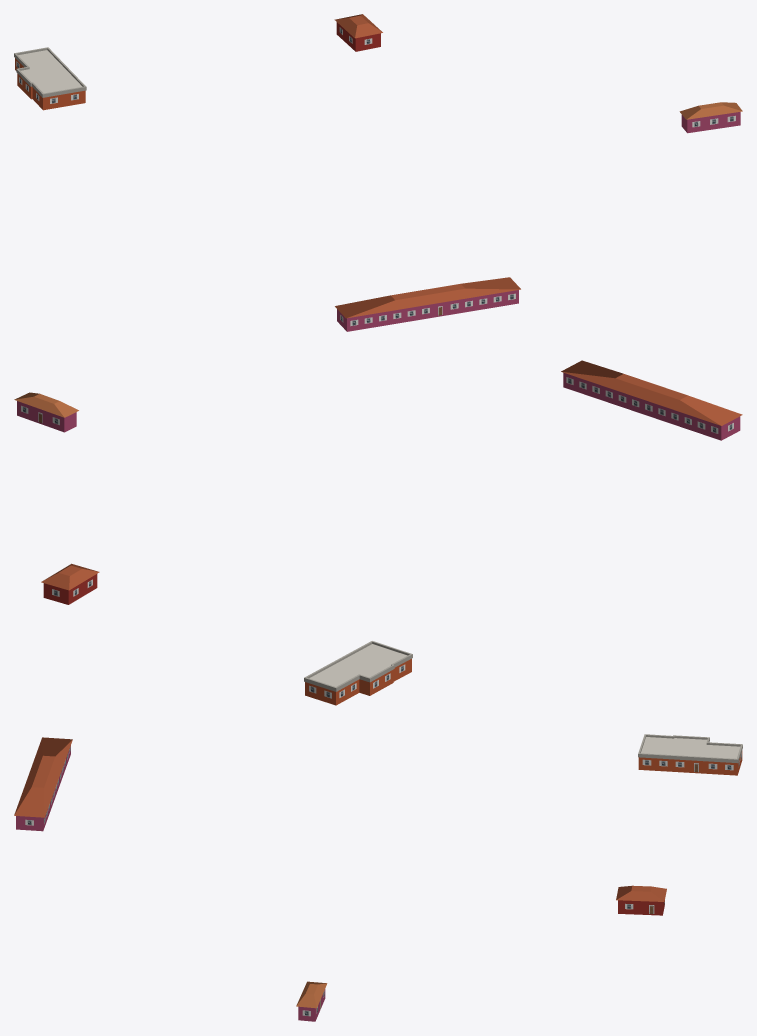
The model's file is msb_sannicolas_18_25.glb.
3 renders of one model, top to bottom at view 1: azimuth 30°, elevation 25°; view 2: azimuth 150°, elevation 25°; view 3: azimuth 270°, elevation 25°, orthographic. The views are drawn at different scales.
Parts seen in each view (by area): view 1: msb_sannicolas_18_25_lod0; view 2: msb_sannicolas_18_25_lod0; view 3: msb_sannicolas_18_25_lod0.
Part boxes in pixels (x1=…): msb_sannicolas_18_25_lod0: x1=14, y1=14, x2=742, y2=331; msb_sannicolas_18_25_lod0: x1=14, y1=360, x2=742, y2=705; msb_sannicolas_18_25_lod0: x1=14, y1=734, x2=742, y2=1021.
Size of what is drawn, in the model's own units: 134 by 8.36 by 161.
Materials: 3 (1 with a texture image).
